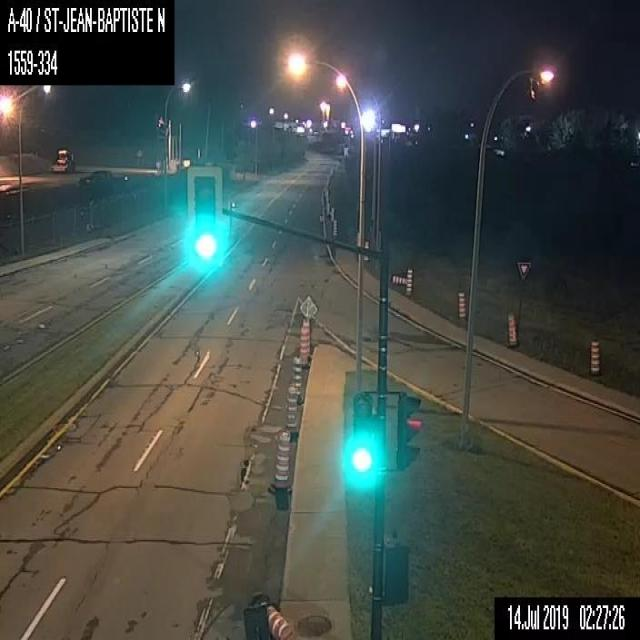construction: (243, 592, 292, 639), (273, 430, 291, 489), (292, 354, 304, 399), (586, 339, 600, 377), (299, 318, 311, 362), (285, 385, 296, 430), (504, 309, 516, 344), (456, 288, 466, 320), (406, 266, 413, 295), (392, 275, 406, 283), (326, 202, 330, 214), (325, 196, 329, 207), (333, 220, 336, 234), (331, 208, 334, 220), (265, 634, 268, 638)
vehicle: (78, 168, 128, 185), (50, 148, 74, 172)
